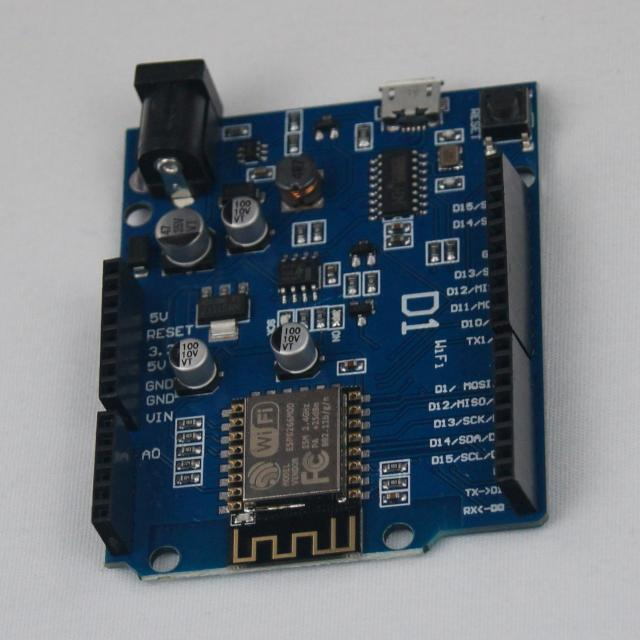Arduino Uno WiFi Shield: (92, 61, 547, 579)
